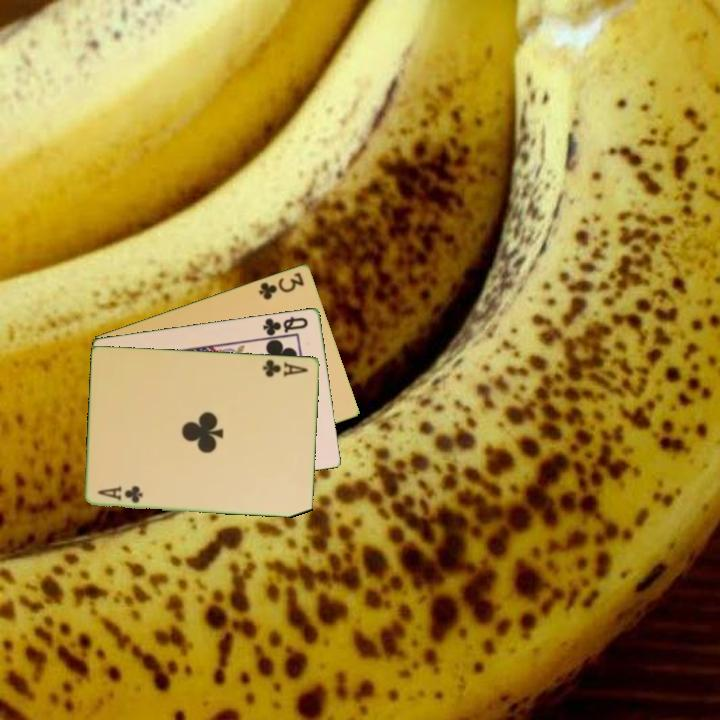3c: (255, 268, 307, 302)
Ac: (259, 356, 311, 380), (94, 482, 145, 505)
Qc: (259, 312, 311, 340)
